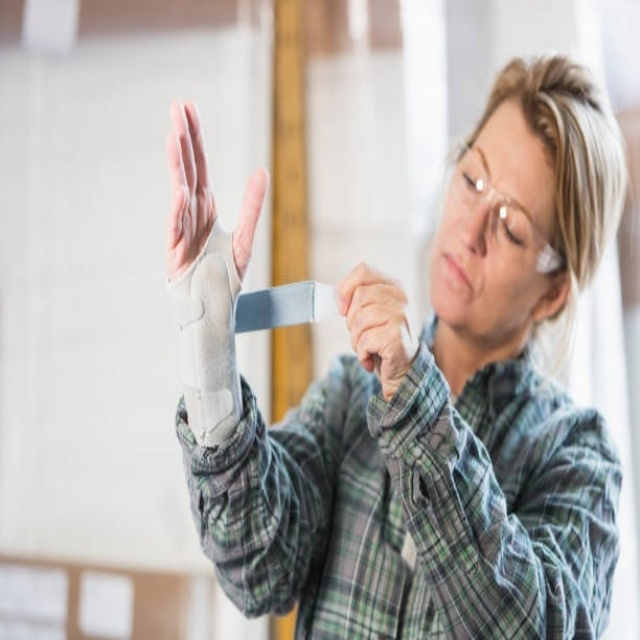Gafas: (455, 147, 561, 275)
Sin_guantes: (163, 93, 267, 299), (335, 261, 420, 400)
Sin_mascara: (433, 243, 487, 314)
